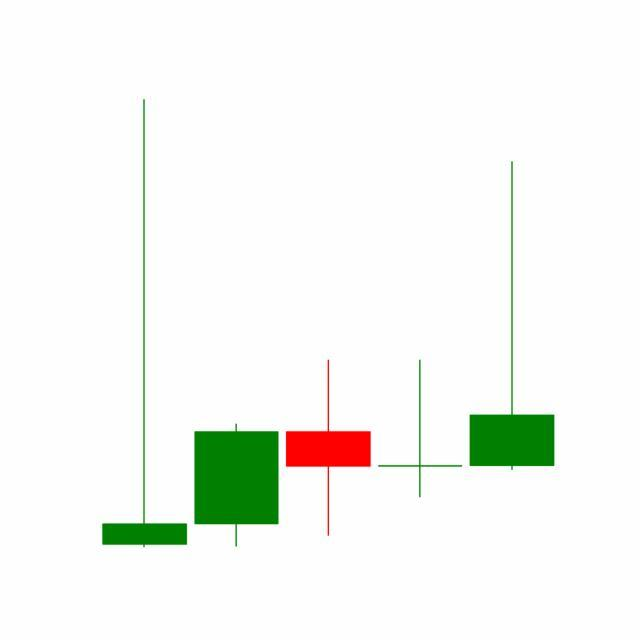Spinning Top: (374, 358, 468, 500)
